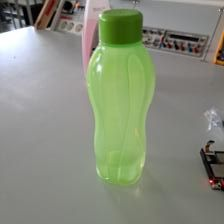bottle: (88, 6, 158, 183)
